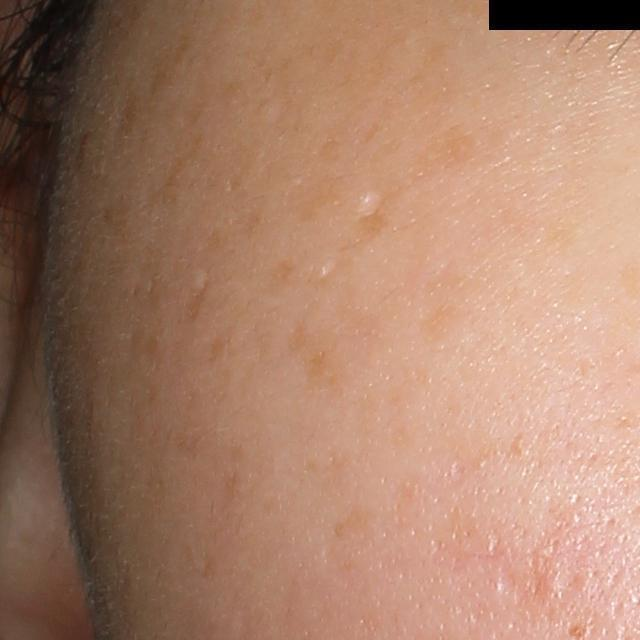atrophic_scar: (489, 538, 563, 613)
melasma: (283, 319, 355, 398), (404, 127, 477, 188), (288, 167, 342, 227), (405, 45, 453, 111), (418, 302, 466, 349), (334, 511, 374, 546), (264, 256, 297, 297)
